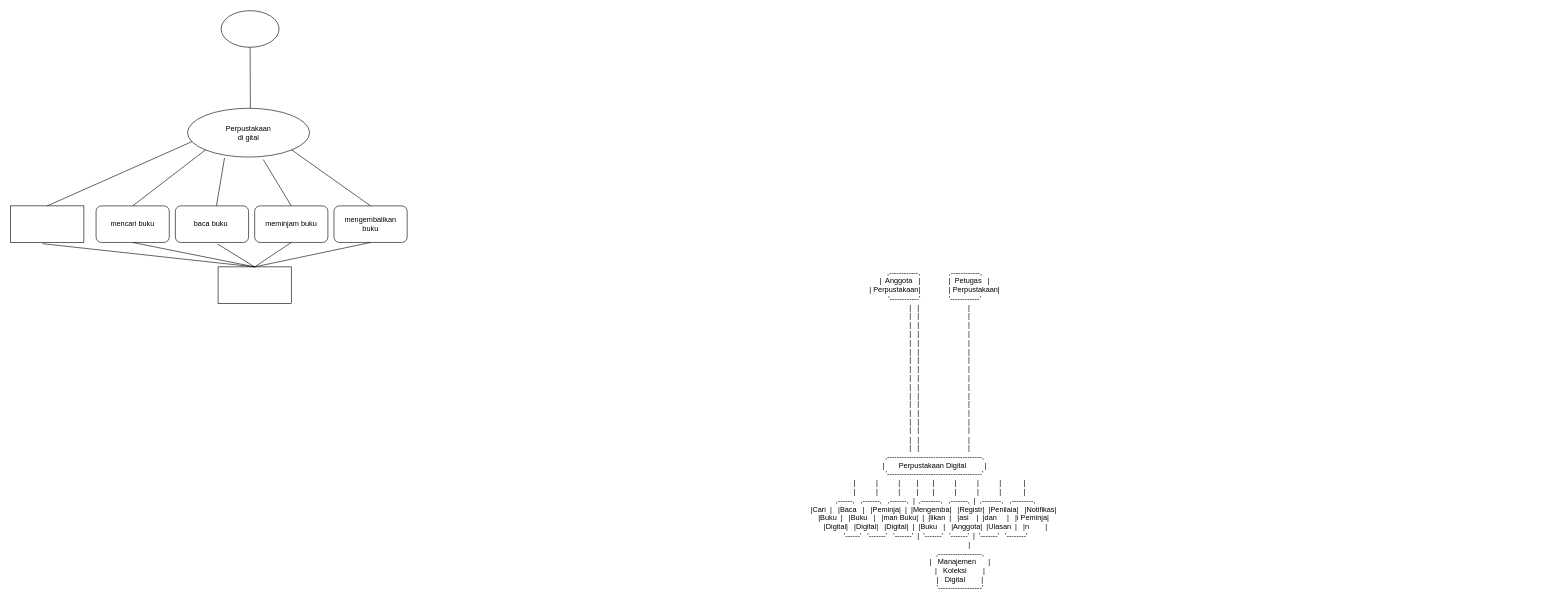
This 1552x612 diagram has some shape labels left out. The shapes that lost their labels are listed below. From the top down, each one's centre as x and y in pixels, then its label:
At (250,28): "Siswa".
At (47,223): "mengisi daftar hadir perpustakaan".
At (254,284): "petugas perpustakaan koleksi digital".
